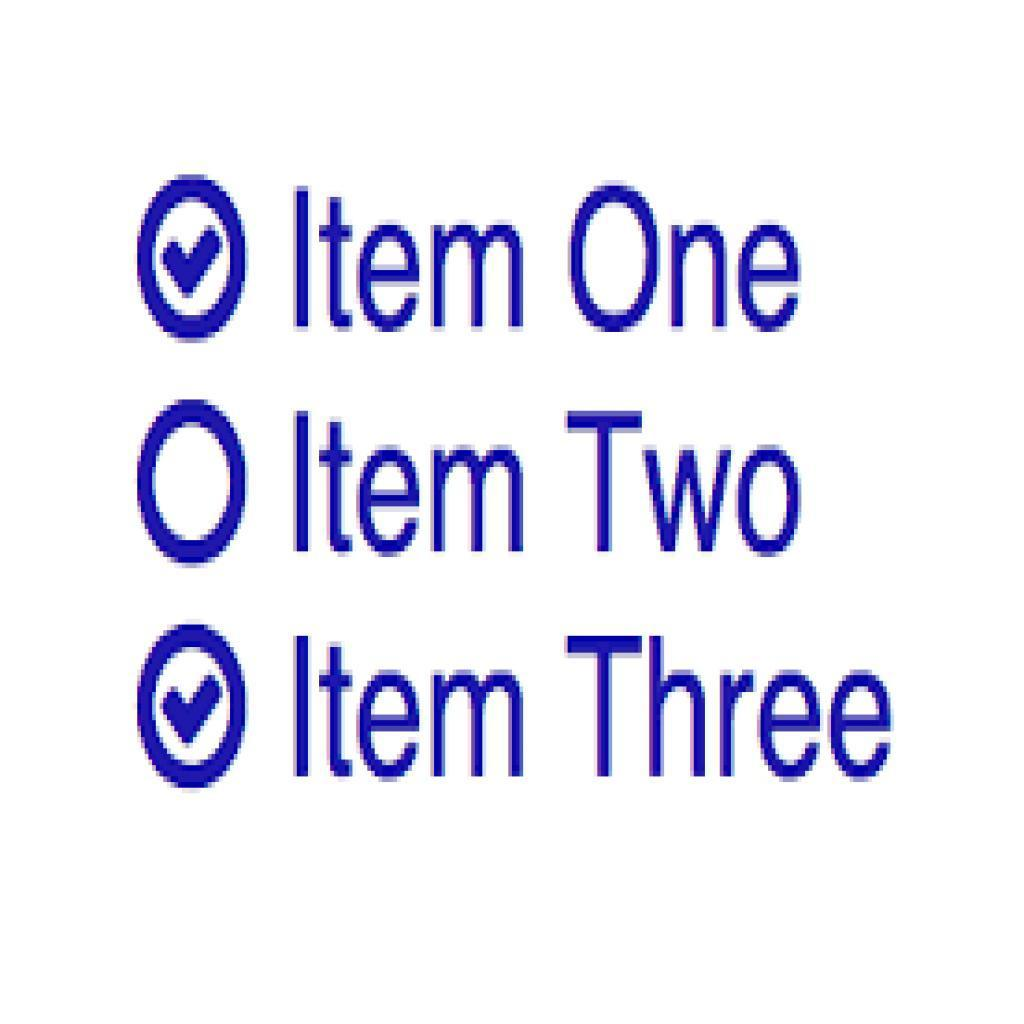radio: (134, 173, 254, 346), (135, 399, 248, 572), (139, 623, 248, 794)
